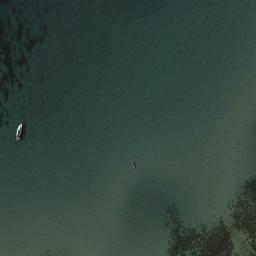boat: (15, 119, 22, 141), (130, 159, 136, 169)
